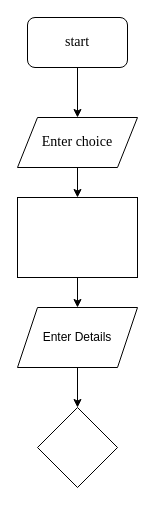
The diagram is 155 pixels wide and 505 high, and some of its shapes have lost their labels. Here are the shapes that lost their labels. From the top down, the centre of each, then its label:
At point 77,237: "1.Add 2.View 3.Search 4.Edit 5.Delete".
At point 77,447: "Exit".
